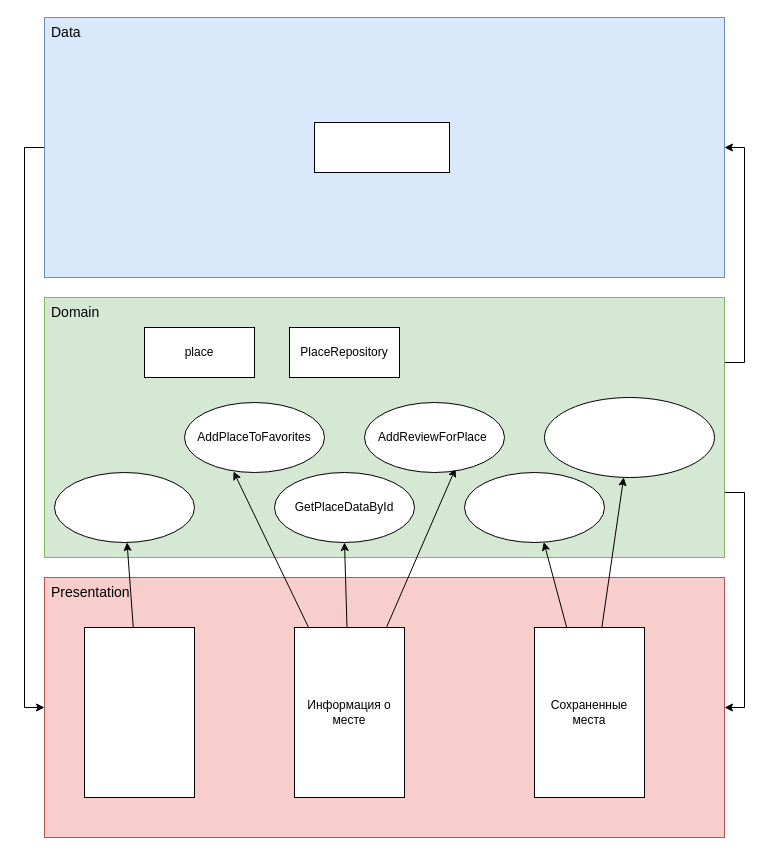
Image size: 770x855. Some labels were removed from this diagram. Here are the shapes that lost their labels. From the top down, the centre of each, then its label:
point (382, 147): PlaceRepositoryImpl
point (629, 437): RemovePlaceFromFavorites
point (124, 507): GetPlaces
point (534, 507): GetFavoritesPlaces
point (139, 712): Список мест
